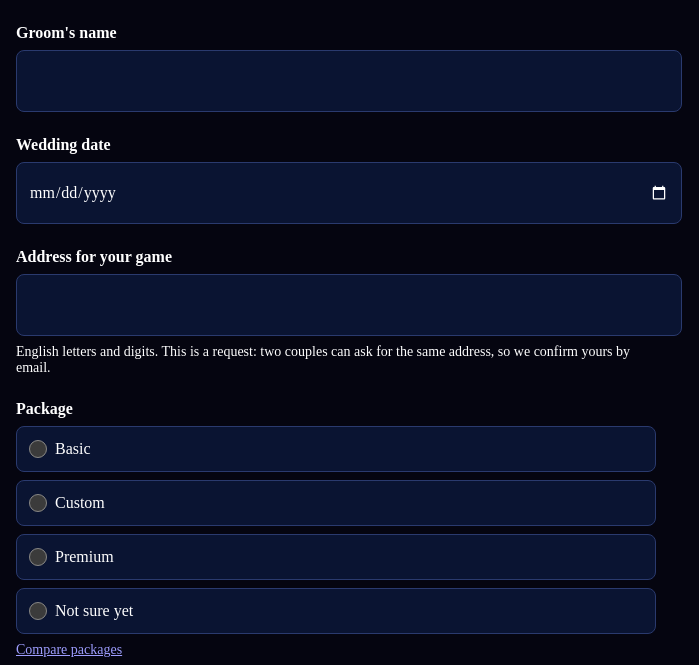
Scenario: OrderPage (component): address field › test_slug_status_live: a b is invalid
The image size is (699, 665).
(page scrolled)
Type "a b" into the field labelled "Address for your game". click: (349, 305)
box: top-left (16, 274), bottom-right (682, 336)
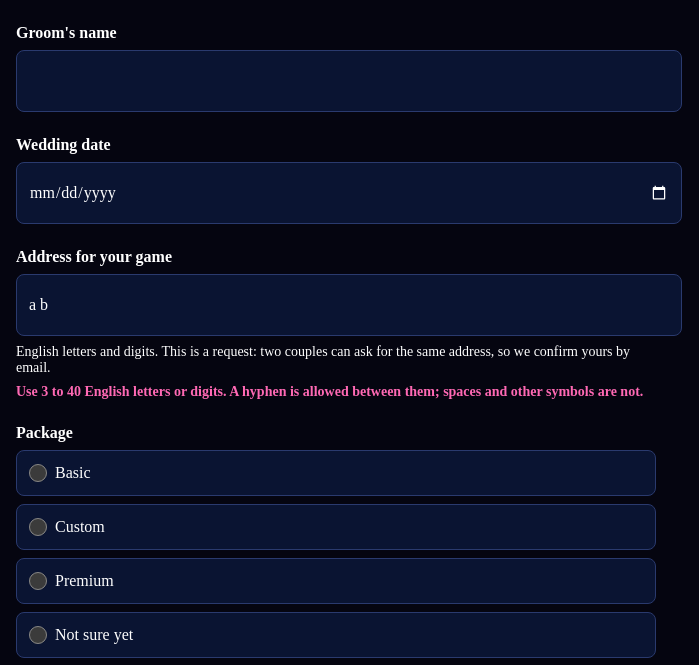
Now the message with test id "order-slug-status" shows "3 to 40", box top-left (16, 384), bottom-right (643, 399)
